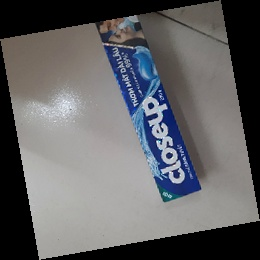CloseUp Tuyet: (93, 8, 203, 205)
